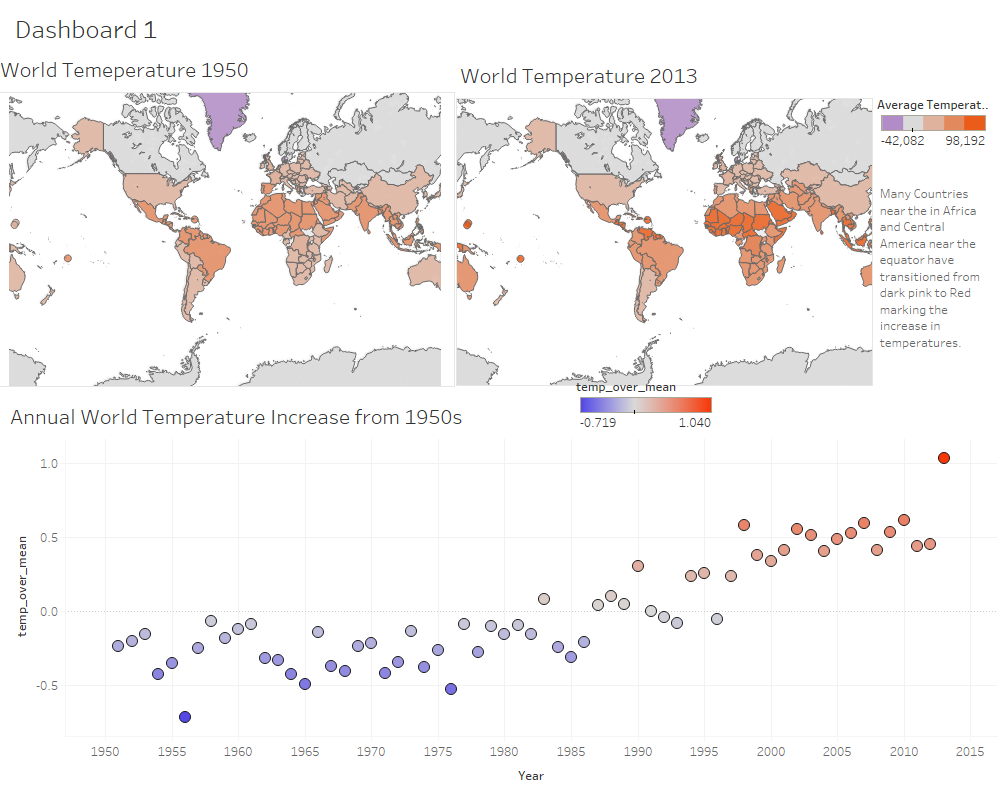

The dashboard page shown, as its layout file describes it:
{"tool":"tableau","page":{"name":"Dashboard 1","canvas":[1000,800],"ordinal":0},"visuals":[{"type":"title","box":[8,8,984,42]},{"type":"worksheet","title":"Sheet 4 (2)","mark":"Multipolygon","box":[456,55,417,331]},{"type":"legend","title":"Sheet 4","param":"[federated.01t19yh1h6x35z10qe1fi1u35jey].[sum:AverageTemperature:qk]","box":[877,92,113,80]},{"type":"text","box":[877,156,109,228]},{"type":"legend","title":"Sheet 7","param":"[federated.0zi8o7o0q9w8jv16d61qq1ikf5in].[usr:Calculation_811773849521811461:qk]","box":[576,374,140,76]},{"type":"worksheet","title":"Sheet 7","mark":"Circle","rows":["Calculation_811773849521811461"],"cols":["Year"],"box":[6,396,991,395]}]}

Visuals, with their boxes in screenshot pixels (x1, y1, x2, y2), scaled from the page's 1000x800 canvas onto the 1000x800 screenshot:
title: crop(8, 8, 992, 50)
"Sheet 4 (2)" worksheet (Multipolygon marks): crop(456, 55, 873, 386)
"Sheet 4" legend: crop(877, 92, 990, 172)
text: crop(877, 156, 986, 384)
"Sheet 7" legend: crop(576, 374, 716, 450)
"Sheet 7" worksheet (Circle marks): crop(6, 396, 997, 791)
